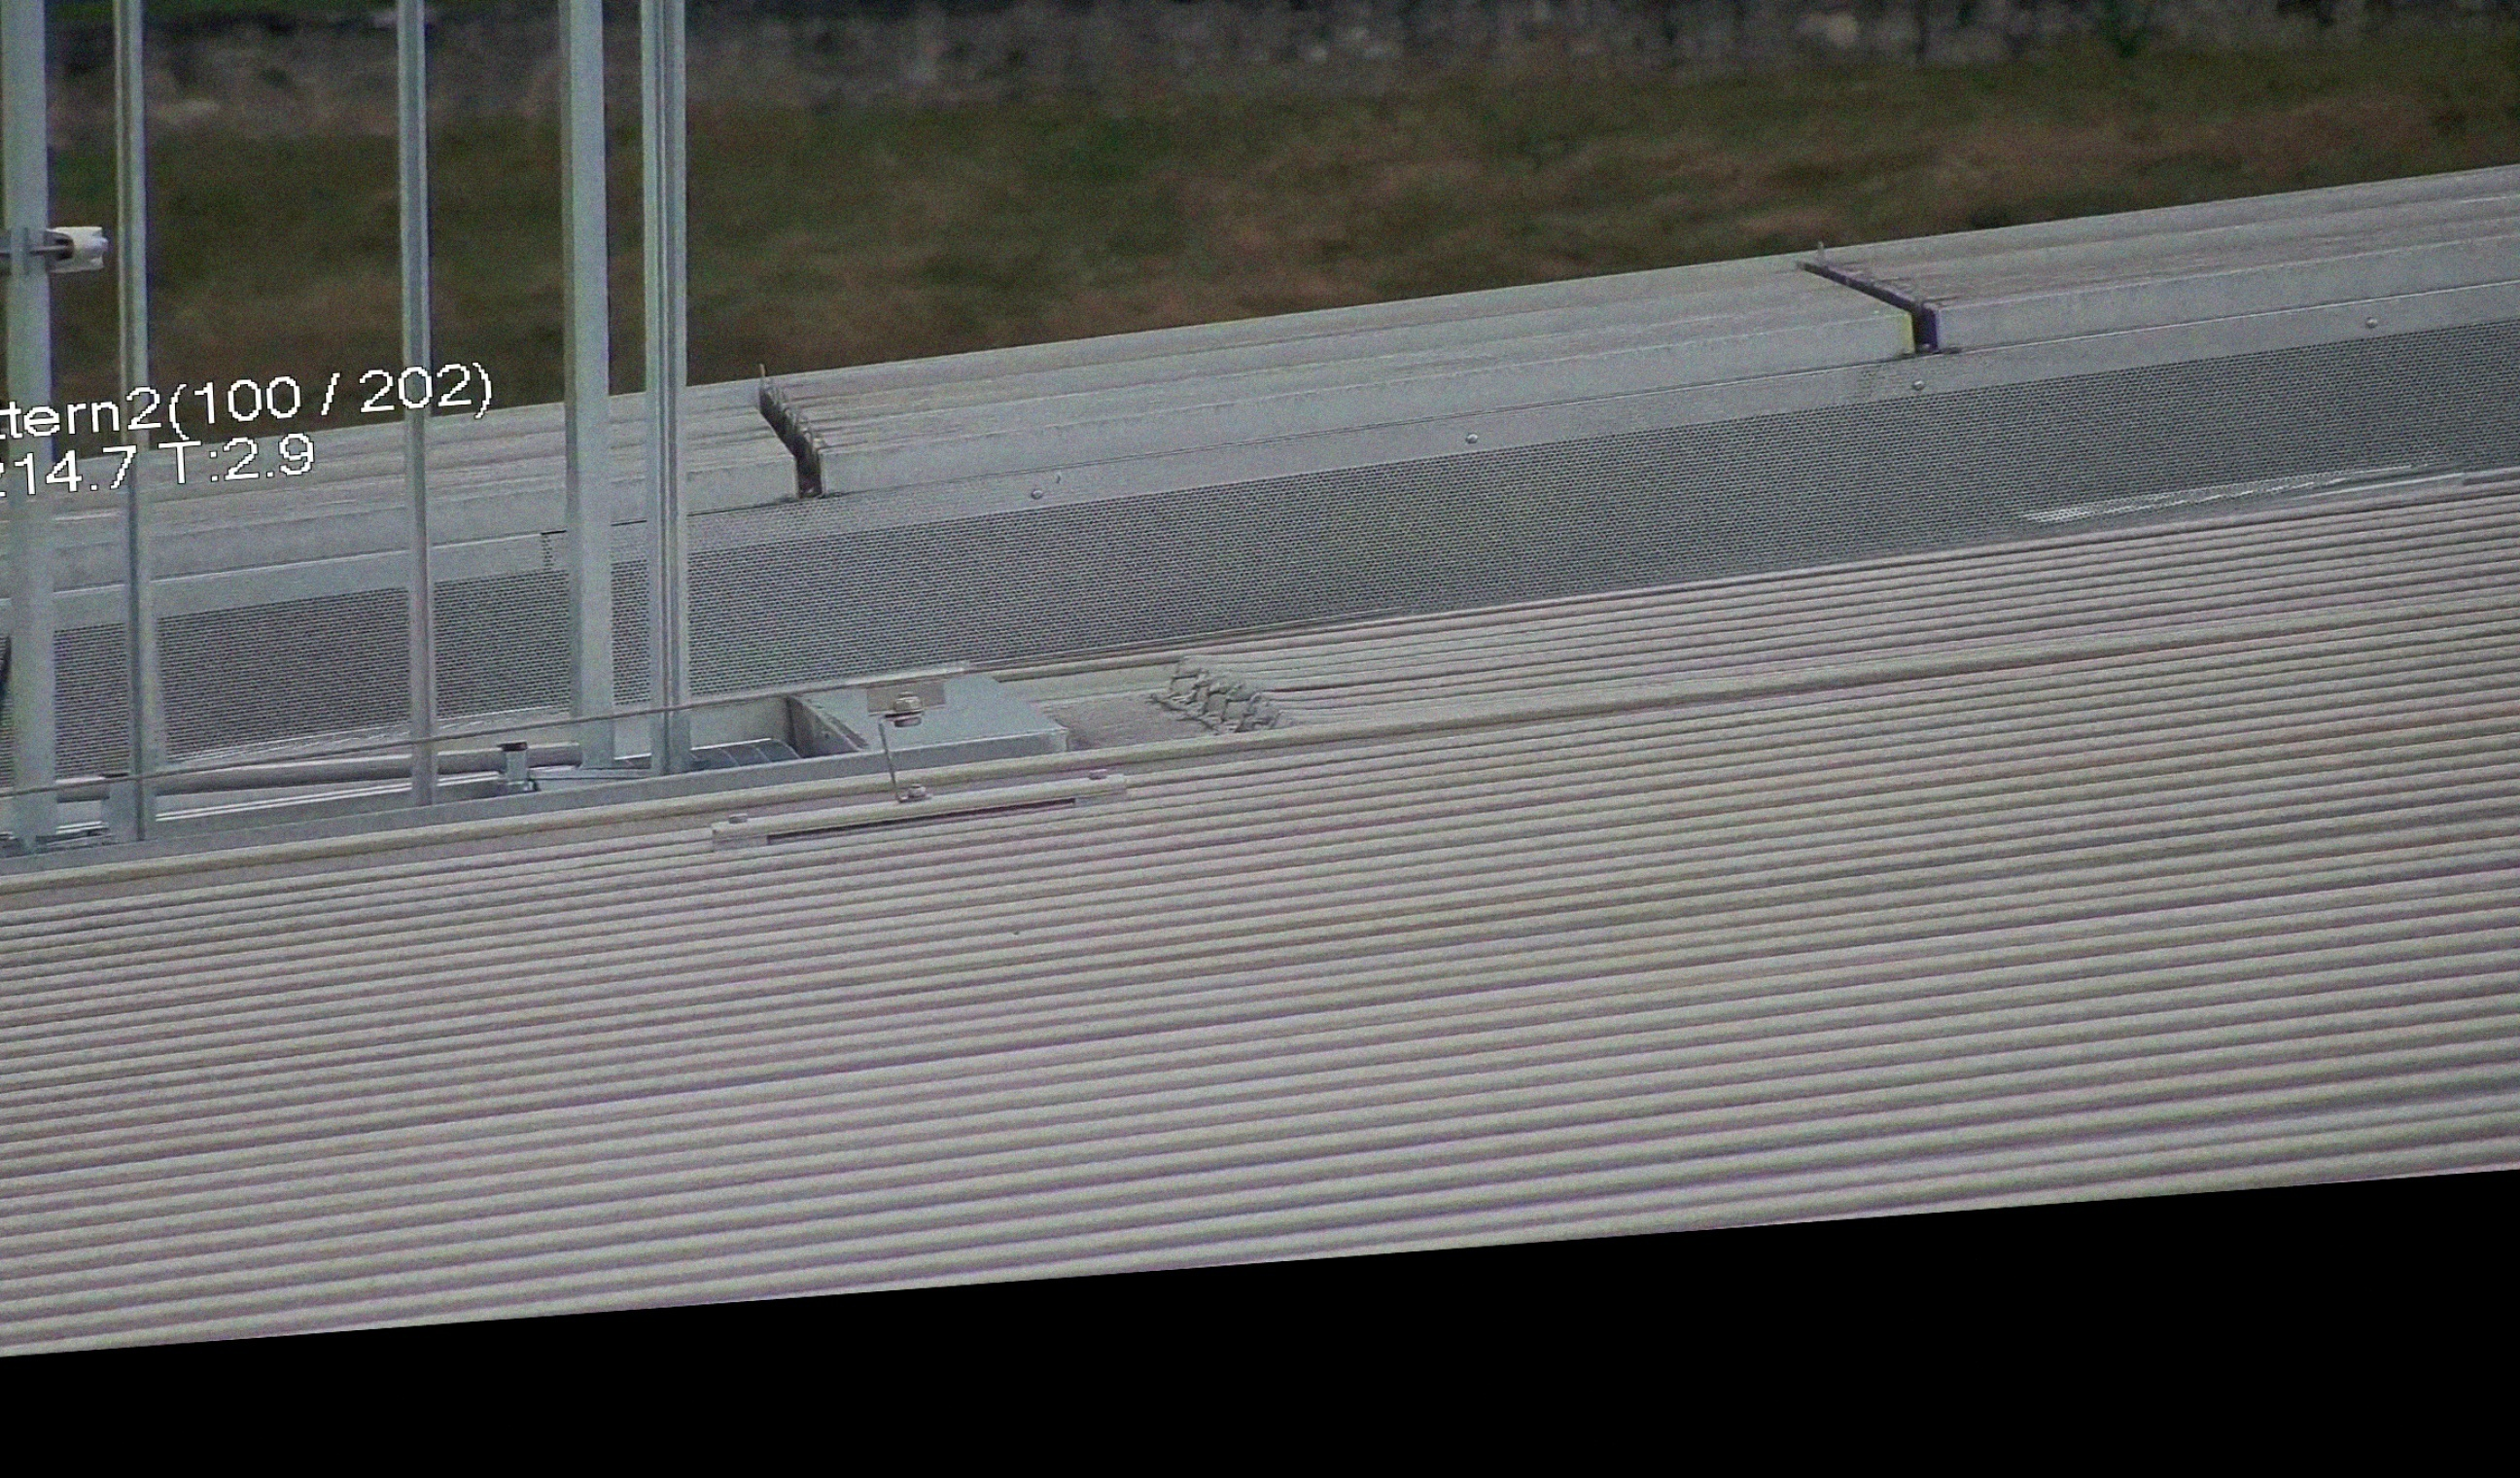Other: (721, 364, 839, 509)
